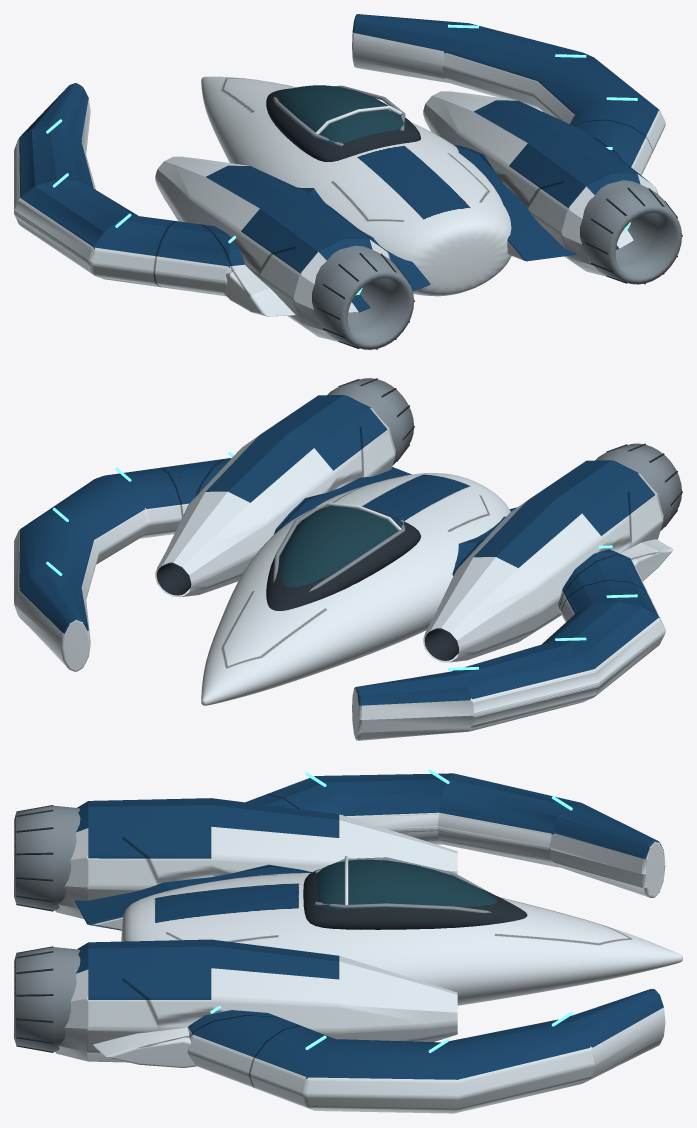
3 views of the same model, one above another, from view 1: azimuth 30°, elevation 25°; view 2: azimuth 150°, elevation 25°; view 3: azimuth 270°, elevation 25° (orthographic). The views are drawn at different scales.
Parts seen in each view (by area): view 1: IronOrbitV2; view 2: IronOrbitV2; view 3: IronOrbitV2.
Part boxes in pixels (box(x1,y1,x2,y2)): IronOrbitV2: box(14, 14, 682, 349); IronOrbitV2: box(14, 378, 682, 740); IronOrbitV2: box(14, 769, 682, 1113).
Bounding box in the file's own units: 3.14 × 0.6313 × 2.88.
Materials: 6 (2 with a texture image).
